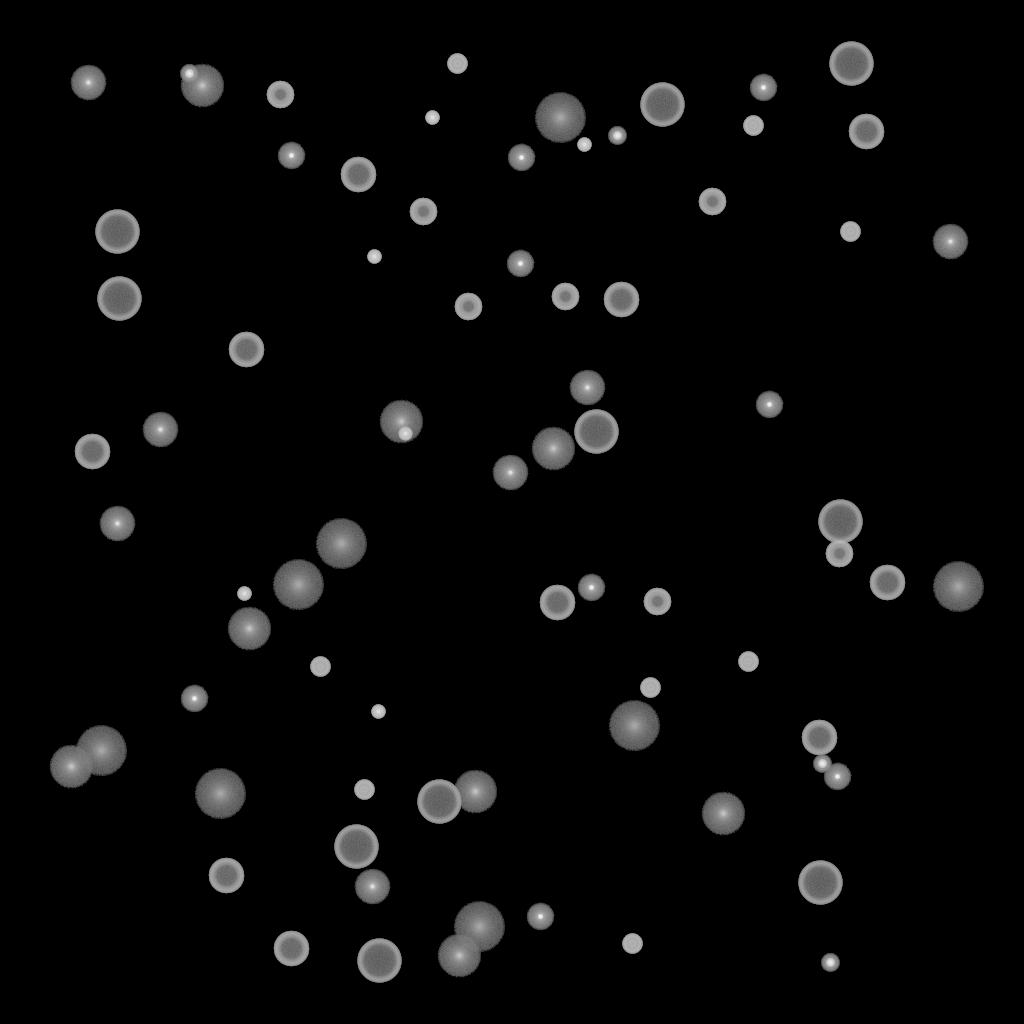depth:-10: (823, 763, 851, 791), (526, 903, 554, 931), (507, 144, 535, 172), (277, 142, 305, 170), (577, 574, 605, 602), (755, 391, 783, 419), (749, 74, 777, 102), (506, 250, 534, 278), (180, 685, 208, 713)
depth:-20: (821, 954, 839, 972), (608, 127, 626, 145), (813, 755, 831, 773), (180, 65, 198, 83)
depth:-30: (371, 705, 385, 719), (577, 138, 591, 152), (367, 250, 381, 264), (425, 111, 439, 125), (398, 427, 412, 441), (237, 587, 251, 601)
depth:-40: (840, 222, 860, 242), (743, 116, 763, 136), (640, 678, 660, 698), (354, 780, 374, 800), (310, 657, 330, 677), (738, 652, 758, 672), (447, 54, 467, 74), (622, 934, 642, 954)
depth:-50: (409, 198, 437, 226), (643, 588, 671, 616), (454, 293, 482, 321), (266, 81, 294, 109), (825, 540, 853, 568), (698, 188, 726, 216), (551, 283, 579, 311)
depth:-60: (539, 585, 575, 621), (340, 157, 376, 193), (848, 114, 884, 150), (228, 332, 264, 368), (801, 720, 837, 756), (273, 931, 309, 967), (869, 565, 905, 601), (208, 858, 244, 894), (603, 282, 639, 318), (74, 434, 110, 470)
depth:-70: (95, 210, 139, 254), (818, 500, 862, 544), (798, 861, 842, 905), (334, 825, 378, 869), (574, 410, 618, 454), (417, 780, 461, 824), (640, 83, 684, 127), (829, 42, 873, 86), (357, 939, 401, 983), (97, 277, 141, 321)
depth:0: (492, 455, 528, 491), (70, 65, 106, 101), (142, 412, 178, 448), (354, 869, 390, 905), (99, 506, 135, 542), (932, 224, 968, 260), (569, 370, 605, 406)
depth:10: (701, 792, 745, 836), (531, 427, 575, 471), (437, 934, 481, 978), (379, 400, 423, 444), (49, 745, 93, 789), (227, 607, 271, 651), (180, 64, 224, 108), (453, 770, 497, 814)
depth:20: (315, 519, 367, 569), (272, 560, 324, 610), (534, 93, 586, 143), (608, 701, 660, 751), (453, 902, 505, 952), (932, 562, 984, 612), (194, 769, 246, 819), (75, 726, 127, 776)
